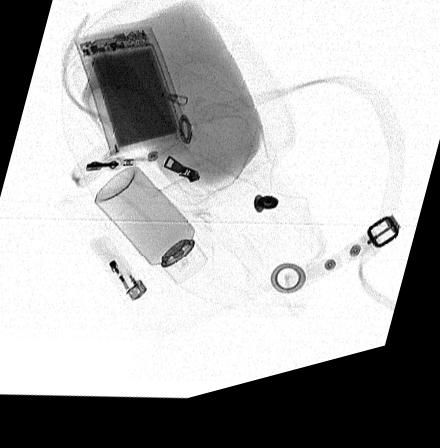Lighter: (89, 240, 146, 307)
Powerbank: (73, 32, 191, 160)
Sprayer: (93, 172, 207, 293)
